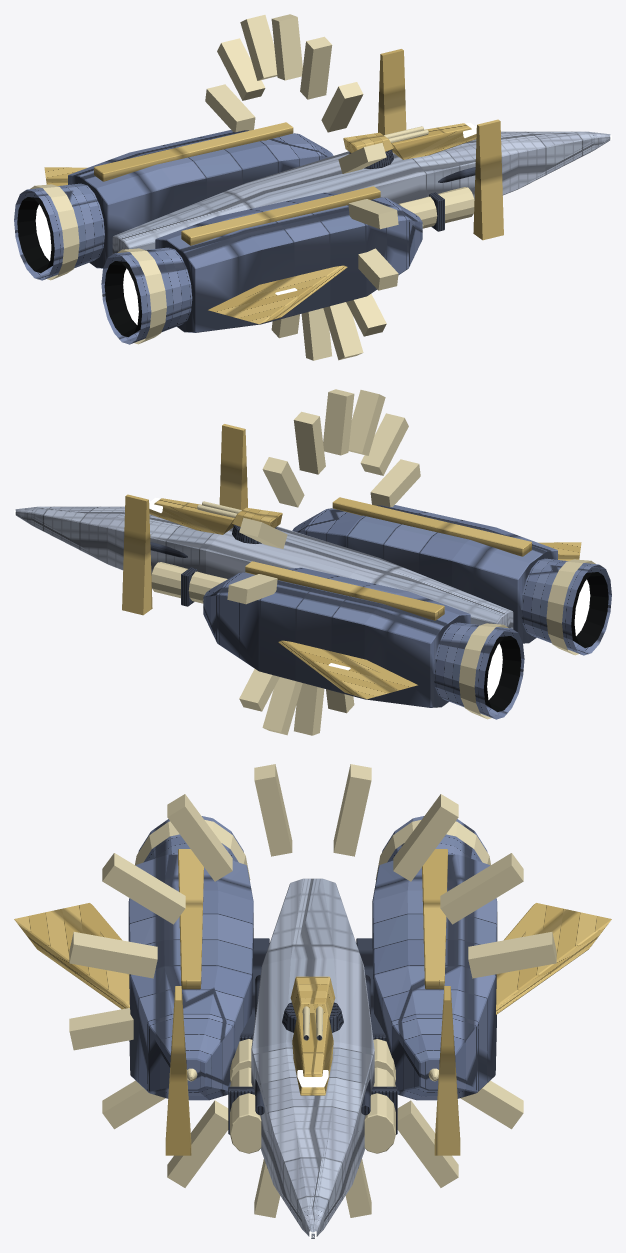
File: corvette.glb
3 renders of one model, top to bottom at view 1: azimuth 30°, elevation 25°; view 2: azimuth 150°, elevation 25°; view 3: azimuth 270°, elevation 25°, orthographic. The views are drawn at different scales.
Visible parts, largest first — view 1: corvette; view 2: corvette; view 3: corvette.
Boxes of the visible parts, x1,y1,x2,y2 form: corvette: [14, 14, 611, 360]; corvette: [14, 389, 611, 735]; corvette: [14, 764, 611, 1238].
Size of the model in its own units: 20 by 11.36 by 13.95.
1 material, 1 textured.
